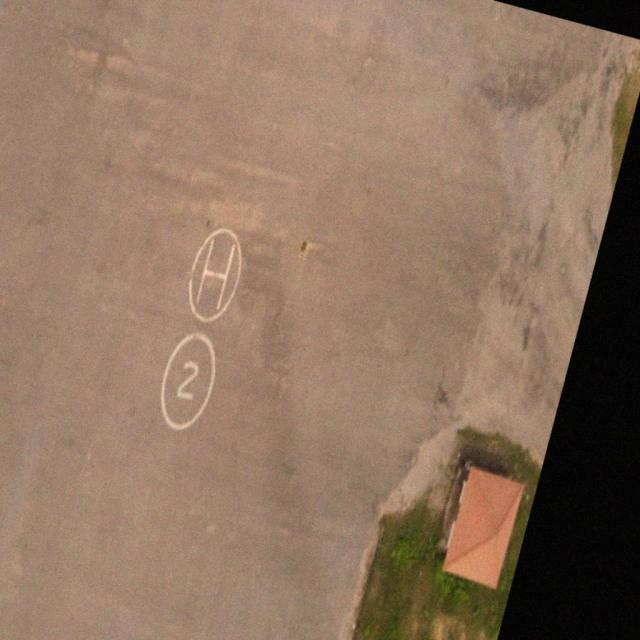helipad: (182, 224, 246, 325)
